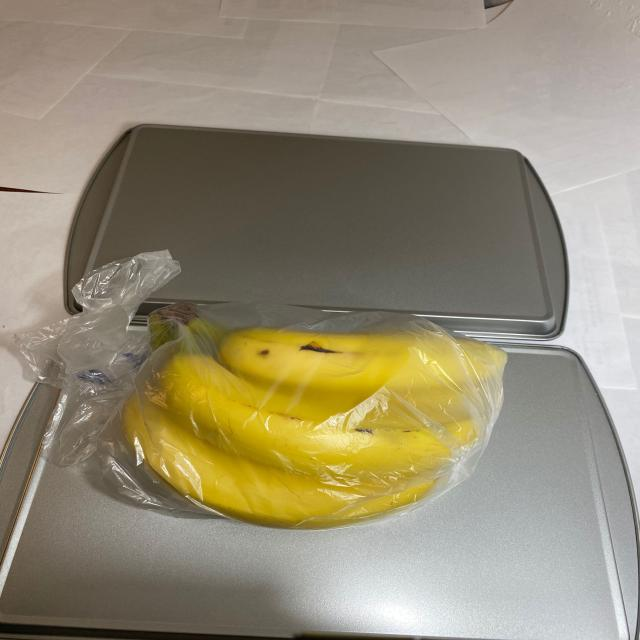banana: (118, 289, 509, 536)
